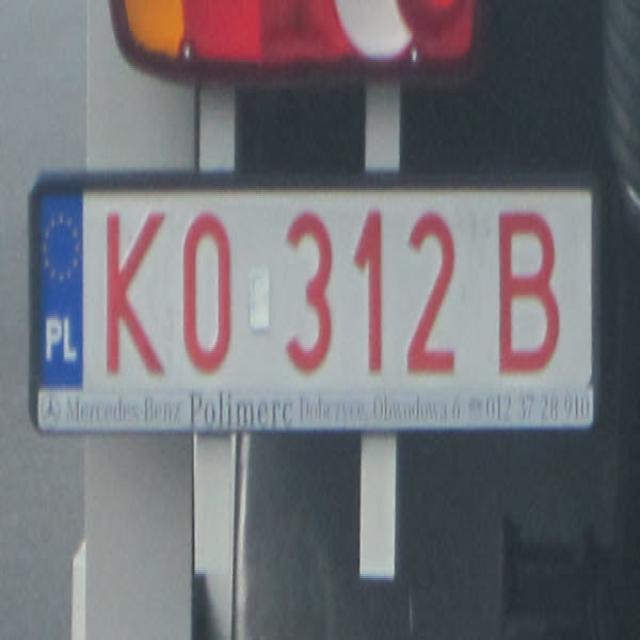pl_license_plate: (39, 192, 591, 384)
